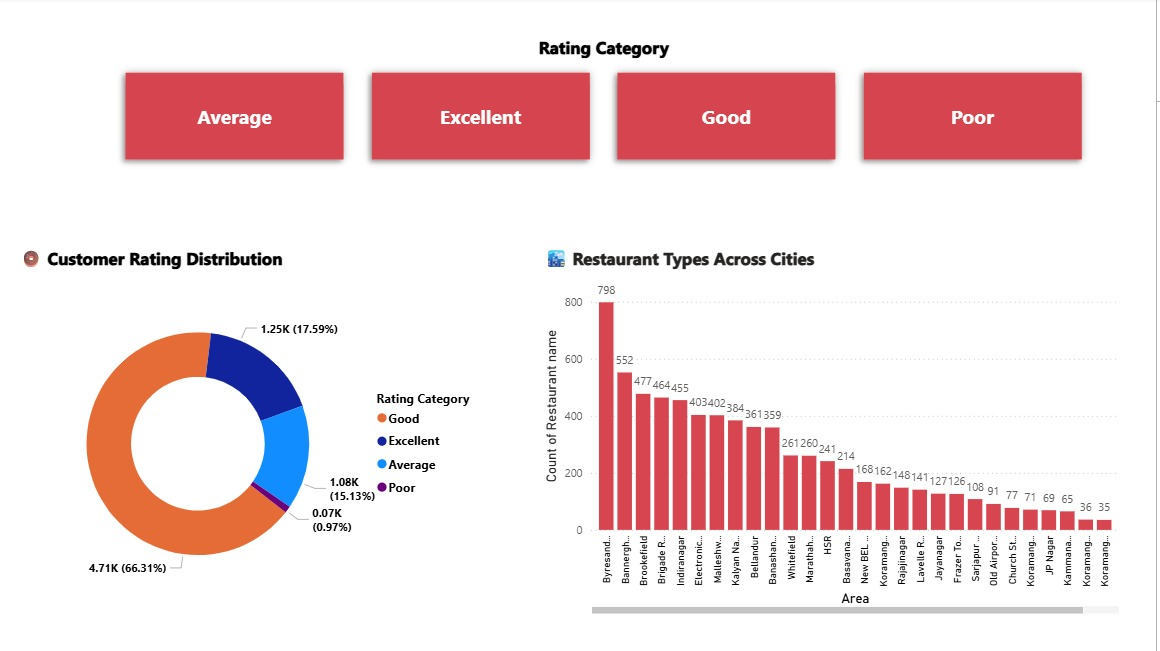

What the dashboard file says about the page in this screenshot:
{"tool":"powerbi","page":{"name":"Page 3","canvas":[1280,720],"ordinal":2},"visuals":[{"type":"donutChart","title":"🍩 Customer Rating Distribution","fields":{"Category":["zomato.Rating Category"],"Y":["CountNonNull(zomato.Restaurant name)"]},"box":[27.4,274.4,526.9,407.5],"z":0},{"type":"clusteredColumnChart","title":"\t🏙️ Restaurant Types Across Cities","fields":{"Category":["zomato.Area"],"Y":["CountNonNull(zomato.Restaurant name)"]},"box":[603.8,274.4,640.8,407.5],"z":1000},{"type":"advancedSlicerVisual","fields":{"Values":["zomato.Rating Category"]},"box":[133.1,42.5,1081.3,152.3],"z":2000}]}

Visuals, with their boxes in screenshot pixels (x1, y1, x2, y2), scaled from the page's 1280x720 canvas onto the 1160x651 screenshot:
"🍩 Customer Rating Distribution" donutChart: (left=25, top=248, right=502, bottom=617)
"	🏙️ Restaurant Types Across Cities" clusteredColumnChart: (left=547, top=248, right=1128, bottom=617)
advancedSlicerVisual - zomato.Rating Category: (left=121, top=38, right=1101, bottom=176)
